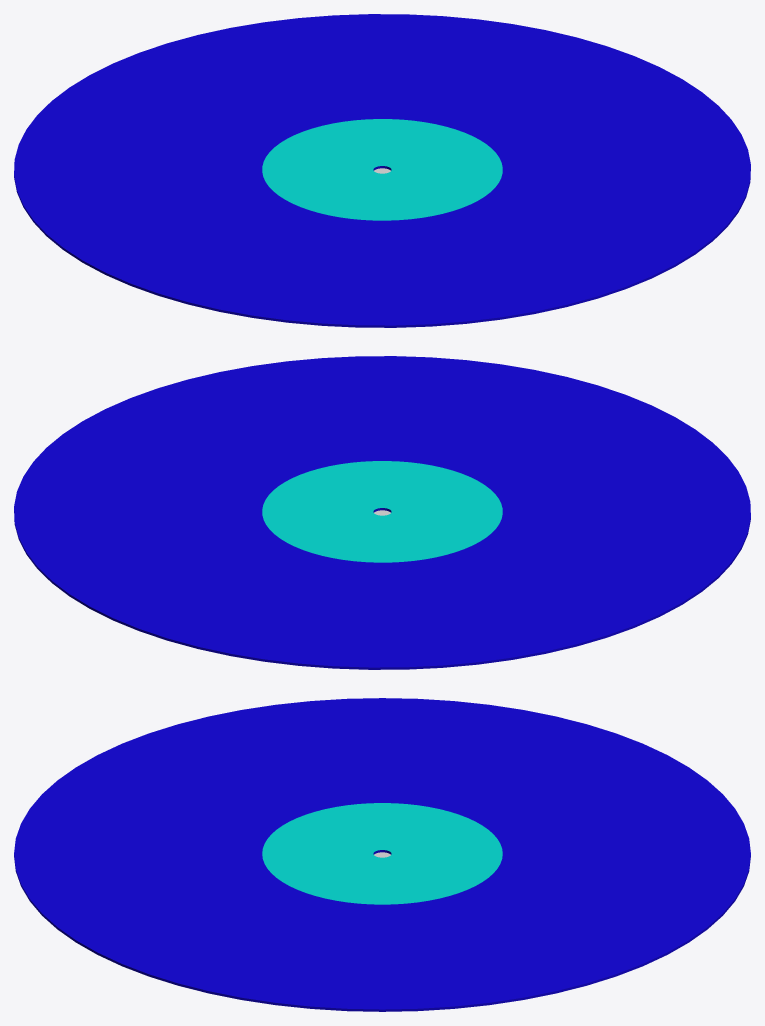
The model's file is record_Broken.fbx.
3 renders of one model, top to bottom at view 1: azimuth 30°, elevation 25°; view 2: azimuth 150°, elevation 25°; view 3: azimuth 270°, elevation 25°, orthographic.
Parts seen in each view (by area): view 1: 33_1-3_Record.002, 33_1-3_Record.003, 33_1-3_Record, 33_1-3_Record.001; view 2: 33_1-3_Record, 33_1-3_Record.001, 33_1-3_Record.002, 33_1-3_Record.003; view 3: 33_1-3_Record.001, 33_1-3_Record.003, 33_1-3_Record, 33_1-3_Record.002.
Part boxes in pixels (x1,y1,x2,y2): 33_1-3_Record.002: [63, 172, 566, 327]; 33_1-3_Record.003: [387, 92, 750, 306]; 33_1-3_Record: [14, 35, 390, 249]; 33_1-3_Record.001: [198, 14, 701, 170]; 33_1-3_Record: [198, 508, 701, 669]; 33_1-3_Record.001: [14, 434, 385, 648]; 33_1-3_Record.002: [387, 377, 750, 591]; 33_1-3_Record.003: [63, 356, 566, 510]; 33_1-3_Record.001: [382, 853, 750, 1011]; 33_1-3_Record.003: [14, 853, 382, 1011]; 33_1-3_Record: [373, 698, 750, 857]; 33_1-3_Record.002: [14, 698, 382, 853].
Size of the model in its own units: 30 by 0.105 by 30.
